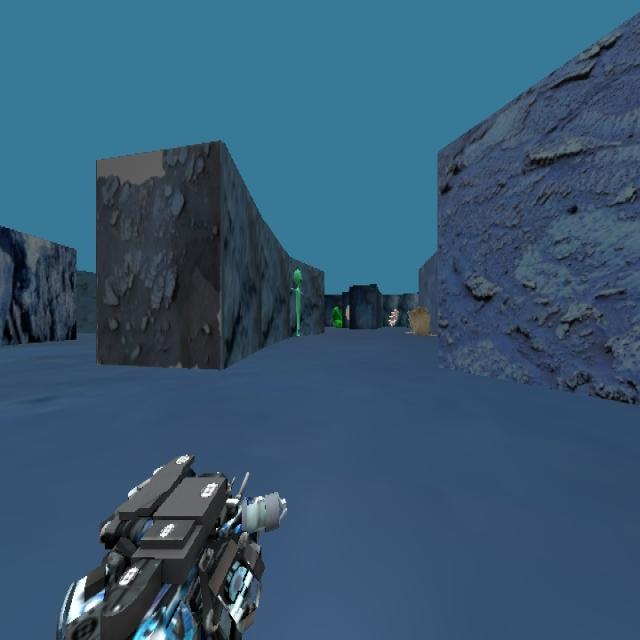Alien: (290, 267, 303, 336)
